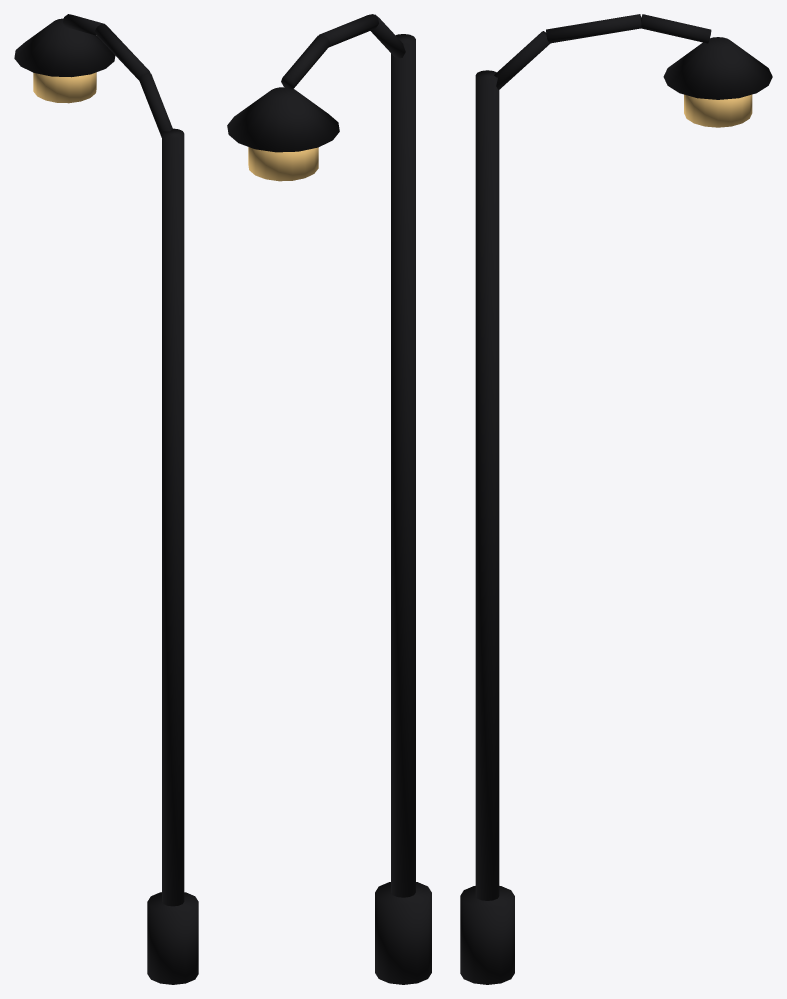
File: Lanp.fbx
3 renders of one model, left to right at view 1: azimuth 30°, elevation 25°; view 2: azimuth 150°, elevation 25°; view 3: azimuth 270°, elevation 25°, orthographic. The views are drawn at different scales.
Visible parts, largest first — view 1: Lanp; view 2: Lanp; view 3: Lanp.
Part boxes in pixels (bbox=[...]): Lanp: bbox=[14, 14, 198, 984]; Lanp: bbox=[227, 14, 431, 984]; Lanp: bbox=[460, 14, 772, 984].
Bounding box in the file's own units: 0.64 × 6.19 × 1.83.
